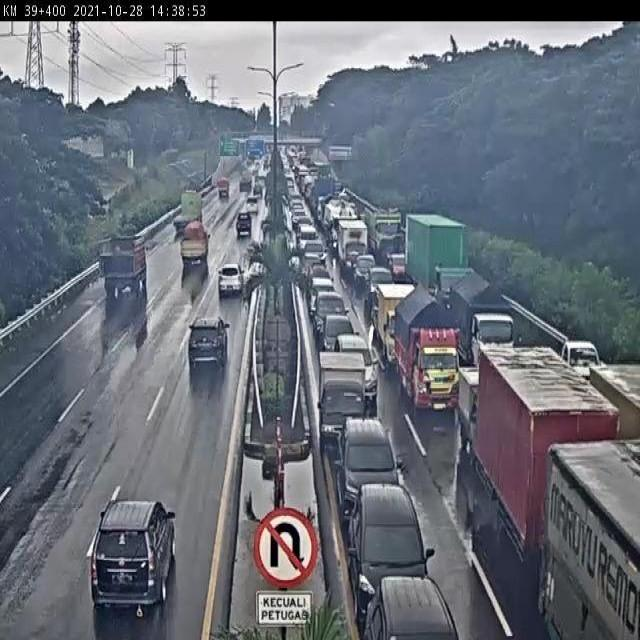big truck: (479, 345, 626, 595), (405, 212, 477, 329), (170, 188, 204, 240), (235, 171, 251, 196)
car: (349, 486, 436, 618), (88, 498, 177, 618), (335, 418, 399, 530), (363, 577, 460, 640), (335, 336, 380, 403), (187, 314, 231, 370), (319, 315, 360, 369), (559, 340, 600, 392), (312, 290, 350, 342), (367, 265, 395, 308), (218, 261, 246, 299), (309, 276, 334, 316), (300, 252, 323, 295), (297, 226, 319, 262), (355, 255, 376, 288), (244, 194, 260, 214), (251, 188, 263, 203)
small bus: (255, 179, 269, 197)
small truck: (393, 287, 462, 416), (446, 271, 512, 372), (458, 365, 521, 468), (317, 348, 369, 449), (91, 236, 147, 305), (377, 283, 420, 369), (339, 220, 369, 276), (179, 219, 210, 269), (235, 209, 255, 236), (215, 179, 231, 201)
